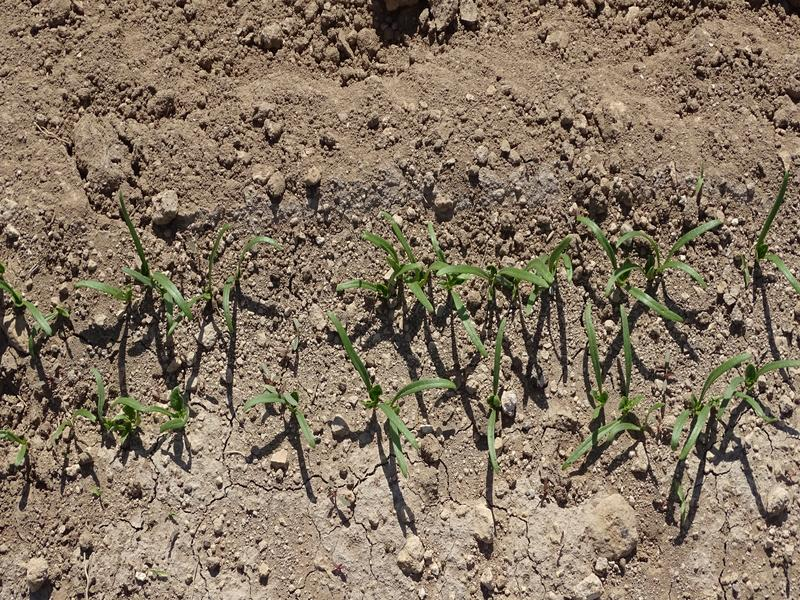Espinaca: (350, 218, 723, 357), (565, 353, 798, 473), (79, 226, 272, 319), (338, 363, 460, 467), (71, 366, 195, 454), (245, 378, 318, 448), (1, 280, 62, 344), (765, 185, 800, 286), (488, 358, 504, 474)
